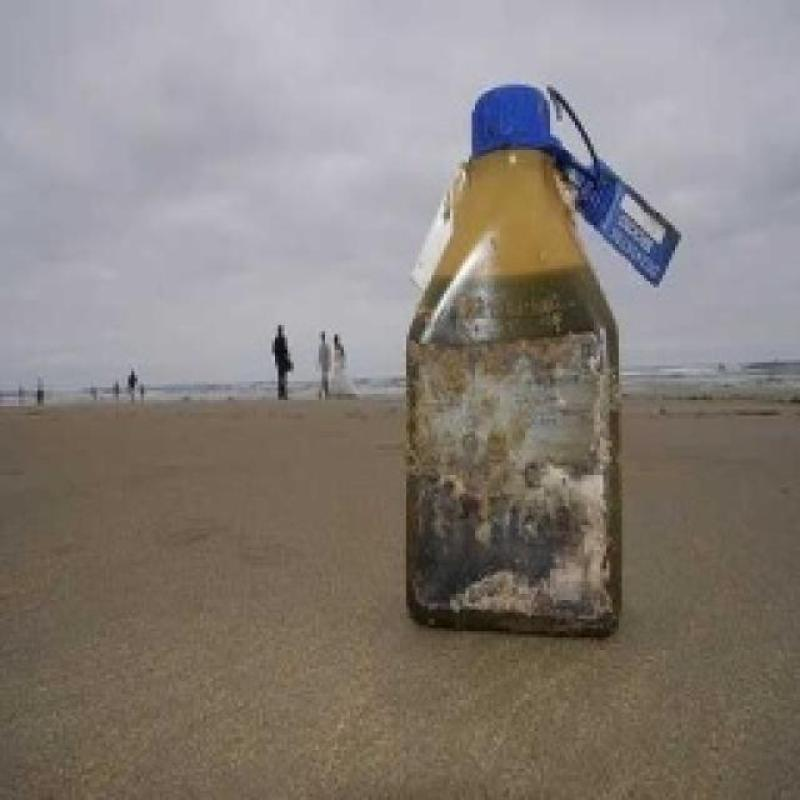botella: (400, 83, 616, 645)
